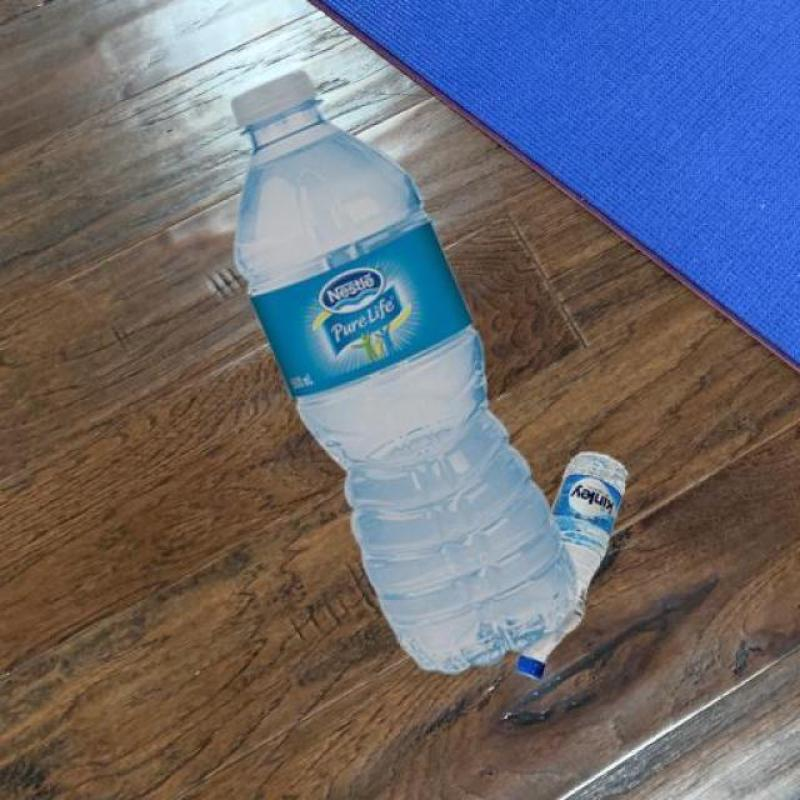botella: (231, 70, 579, 678), (515, 449, 627, 678)
